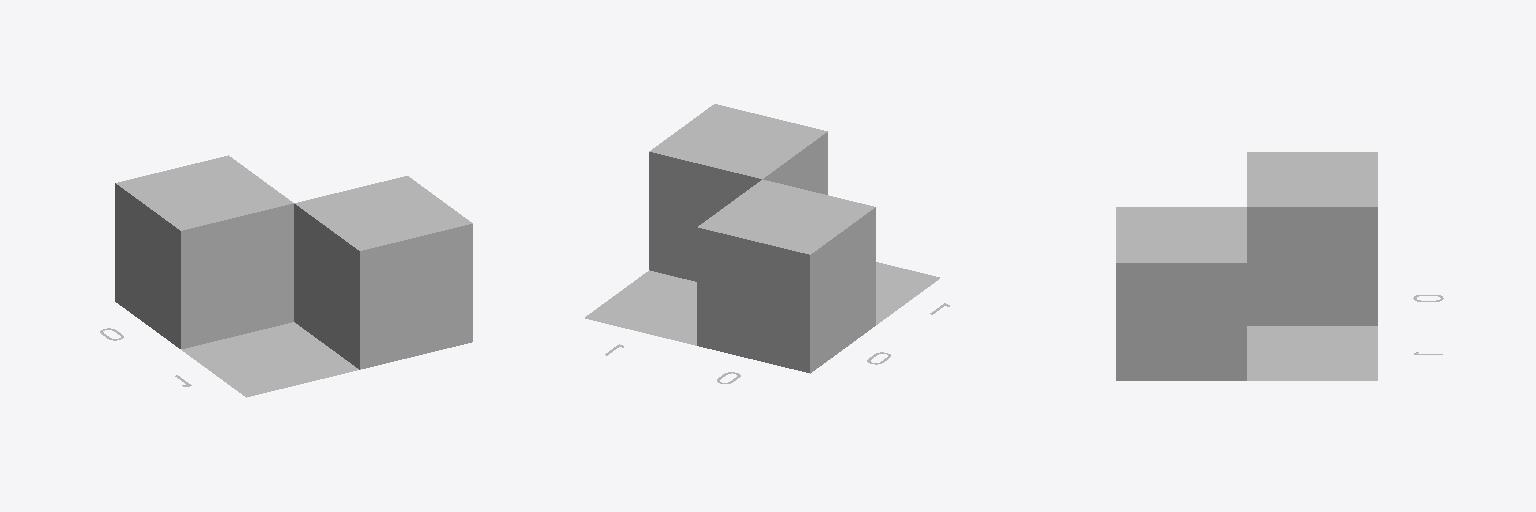
3 renders of one model, left to right at view 1: azimuth 30°, elevation 25°; view 2: azimuth 150°, elevation 25°; view 3: azimuth 270°, elevation 25°, orthographic.
Visible parts, largest first — view 1: Object(2,2)[length_1], Object(1,1)[length_1], Object(1,2)[length_0]; view 2: Object(1,1)[length_1], Object(2,2)[length_1], Object(2,1)[length_0], Object(1,2)[length_0]; view 3: Object(1,1)[length_1], Object(2,2)[length_1], Object(2,1)[length_0].
Part boxes in pixels (bbox=[...]): Object(2,2)[length_1]: bbox=[294, 176, 472, 369]; Object(1,1)[length_1]: bbox=[115, 155, 293, 348]; Object(1,2)[length_0]: bbox=[181, 322, 358, 397]; Object(1,1)[length_1]: bbox=[697, 179, 875, 373]; Object(2,2)[length_1]: bbox=[649, 104, 827, 281]; Object(2,1)[length_0]: bbox=[585, 270, 696, 345]; Object(1,2)[length_0]: bbox=[876, 262, 939, 324]; Object(1,1)[length_1]: bbox=[1247, 152, 1377, 325]; Object(2,2)[length_1]: bbox=[1116, 207, 1246, 380]; Object(2,1)[length_0]: bbox=[1247, 326, 1377, 380].
Size of the model in its own units: 2.38 by 1 by 2.5.